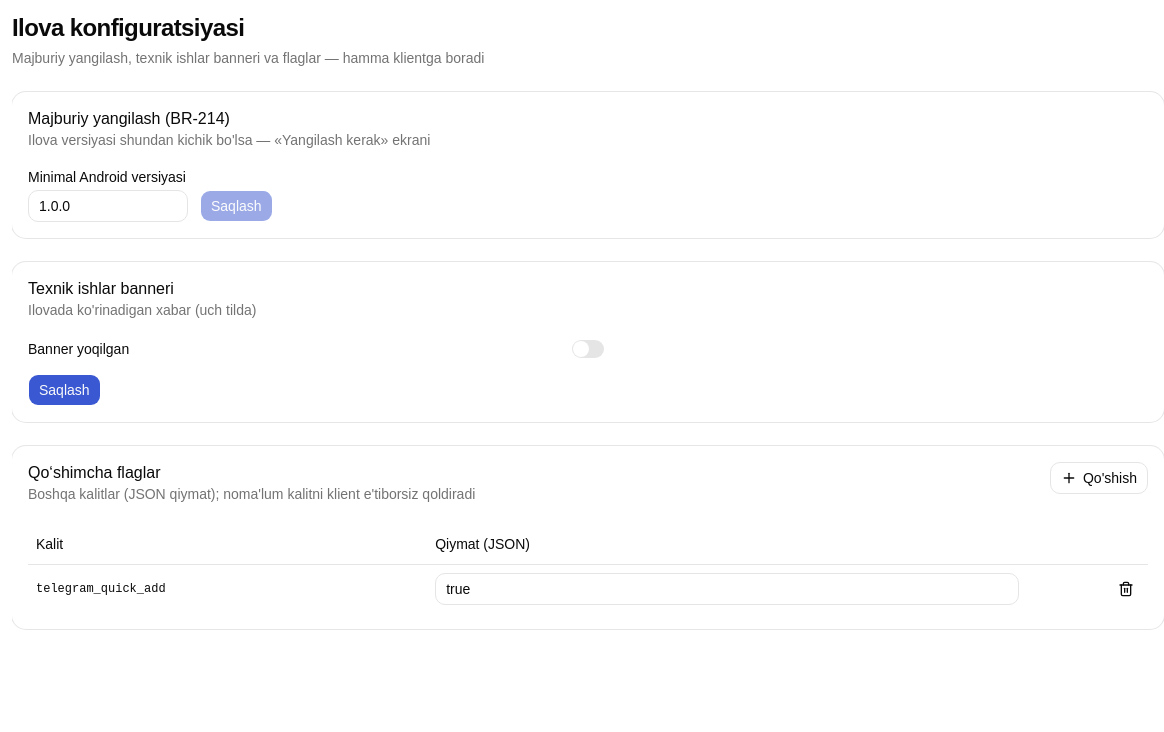
Test case: PlatformConfigPage (E26-T02, BR-214) › minimal versiya: noto‘g‘ri ko‘rinish saqlanmaydi
The image size is (1164, 732).
Replace the text in the field labelled "Minimal Android versiyasi" with "1.5" at (108, 206), box [28,190,188,222]
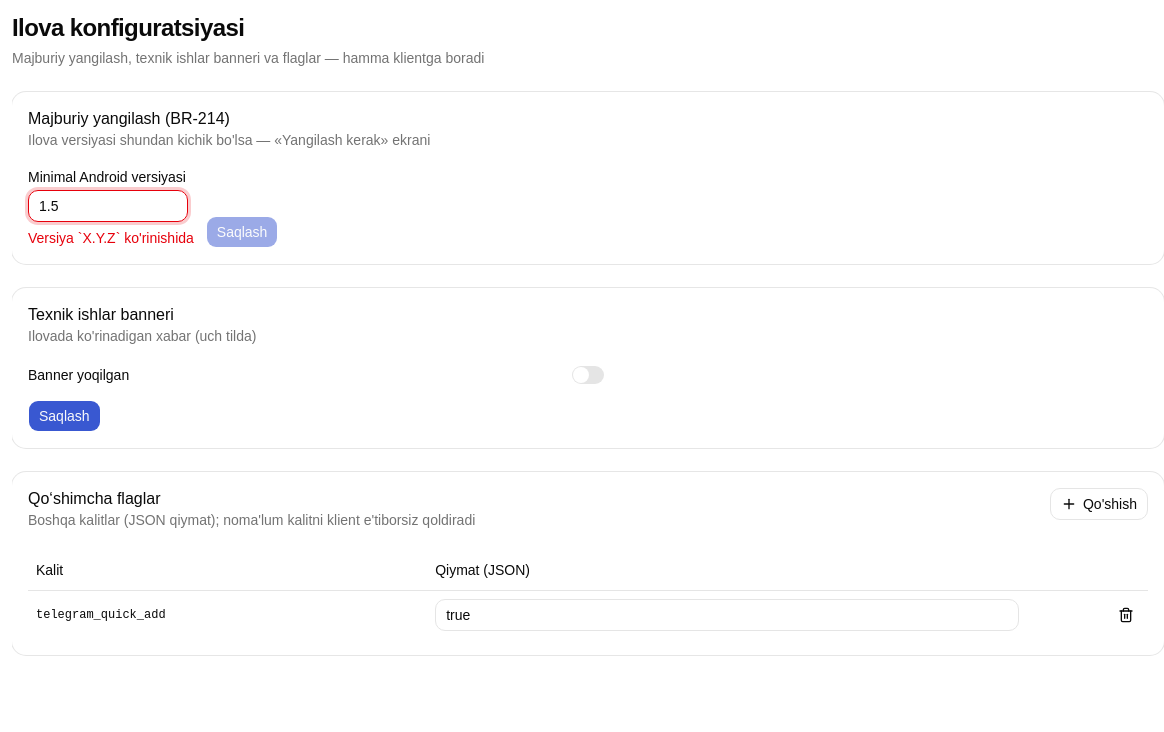
expect the text "Versiya `X.Y.Z` ko'rinishida" is shown: met, box [28,228,194,248]
Type ".0" into the field labelled "Minimal Android versiyasi" at (108, 206), box [28,190,188,222]
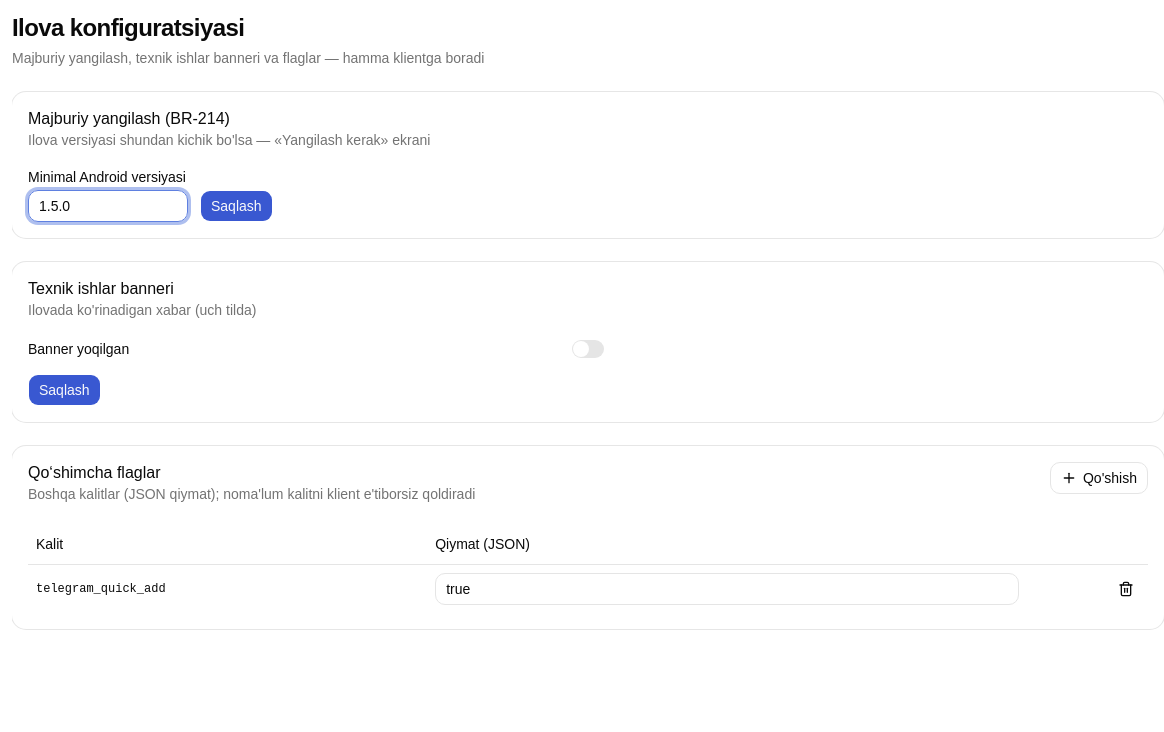
Click the button with aria-label "Minimal versiyani saqlash" at (236, 206), box [200,190,273,222]
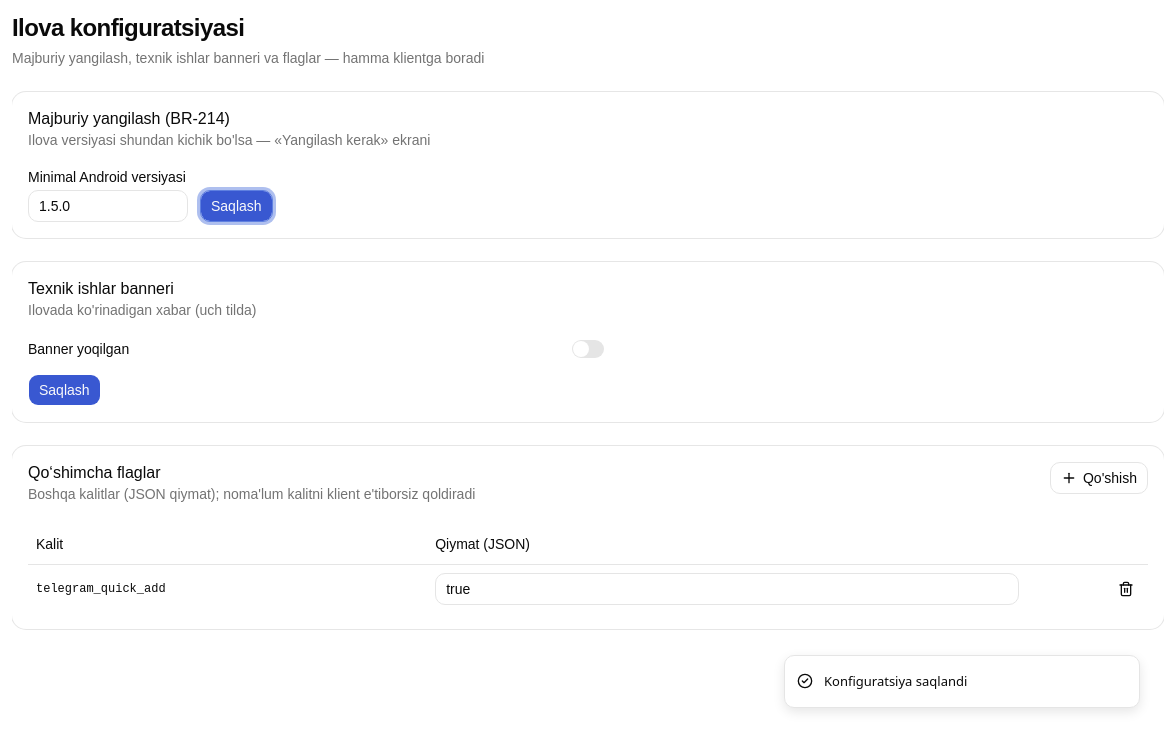
expect the text "Konfiguratsiya saqlandi" is shown: met, box [824,672,967,691]
